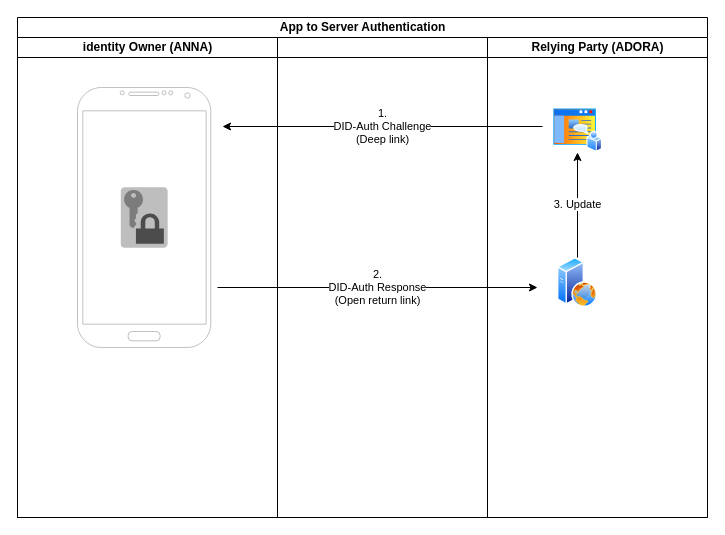
This 725x535 diagram has some shape labels left out. The shapes that lost their labels are listed below. From the top down, each one's centre as x and y in pixels, then its label:
point 577,129: Webseite
point 577,282: Web Server
